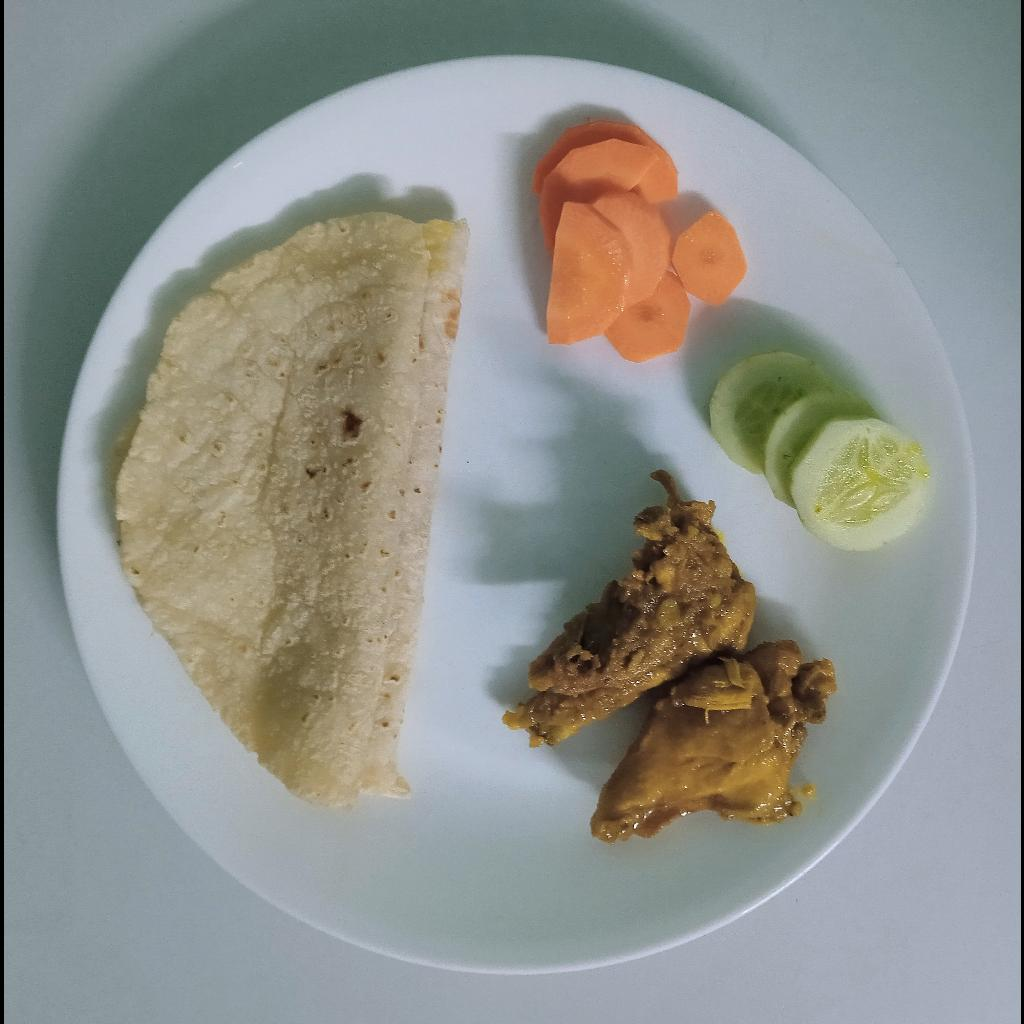carrot: (529, 119, 748, 363)
chicken: (503, 468, 837, 843)
cucumber: (707, 351, 927, 553)
ruti: (101, 213, 468, 809)
